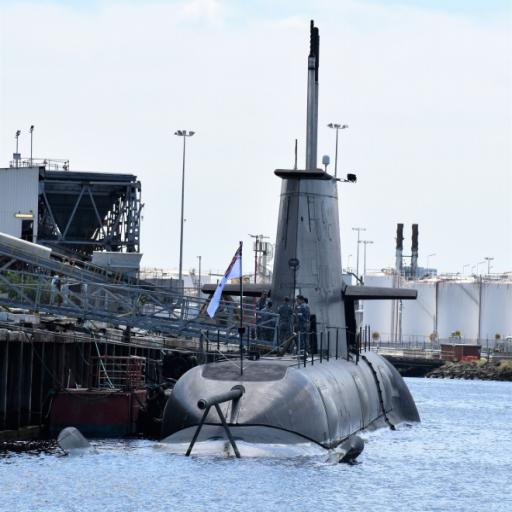submarine: (57, 28, 428, 456)
